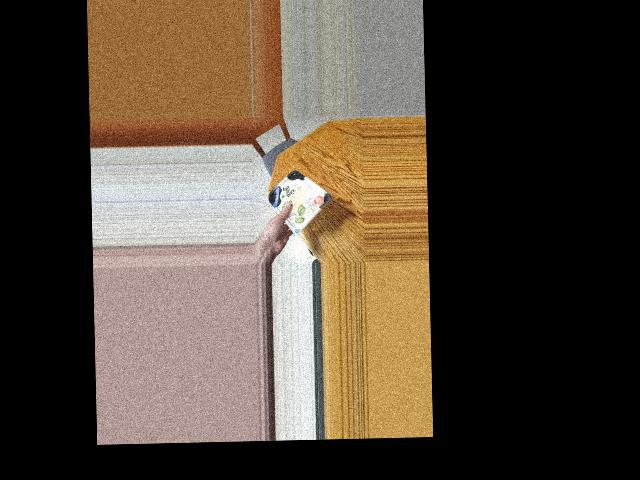cheese: (267, 175, 324, 224)
